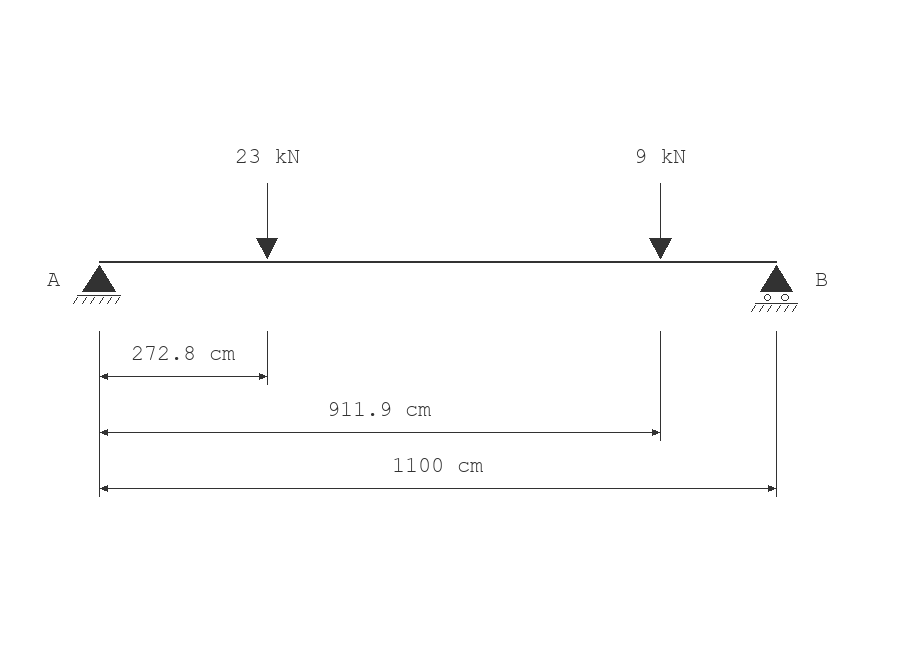pin_support: (73, 265, 121, 304)
point_load: (649, 183, 672, 259), (256, 183, 278, 259)
roller_support: (751, 265, 798, 312)
